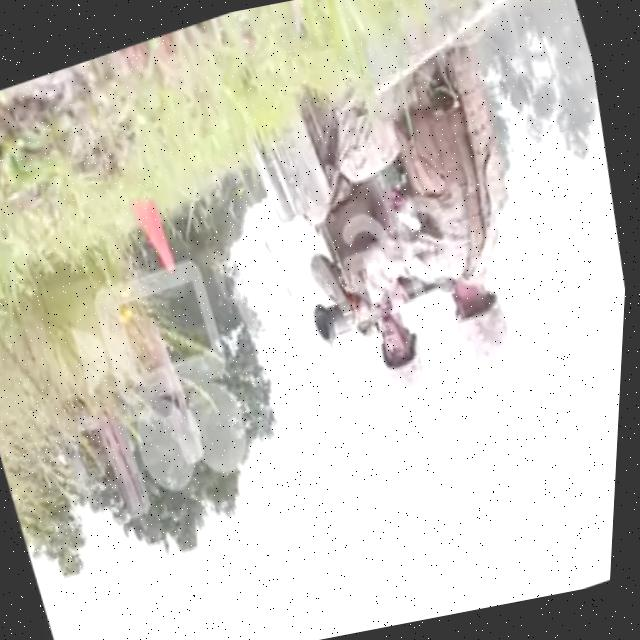rocket: (306, 270, 431, 348)
